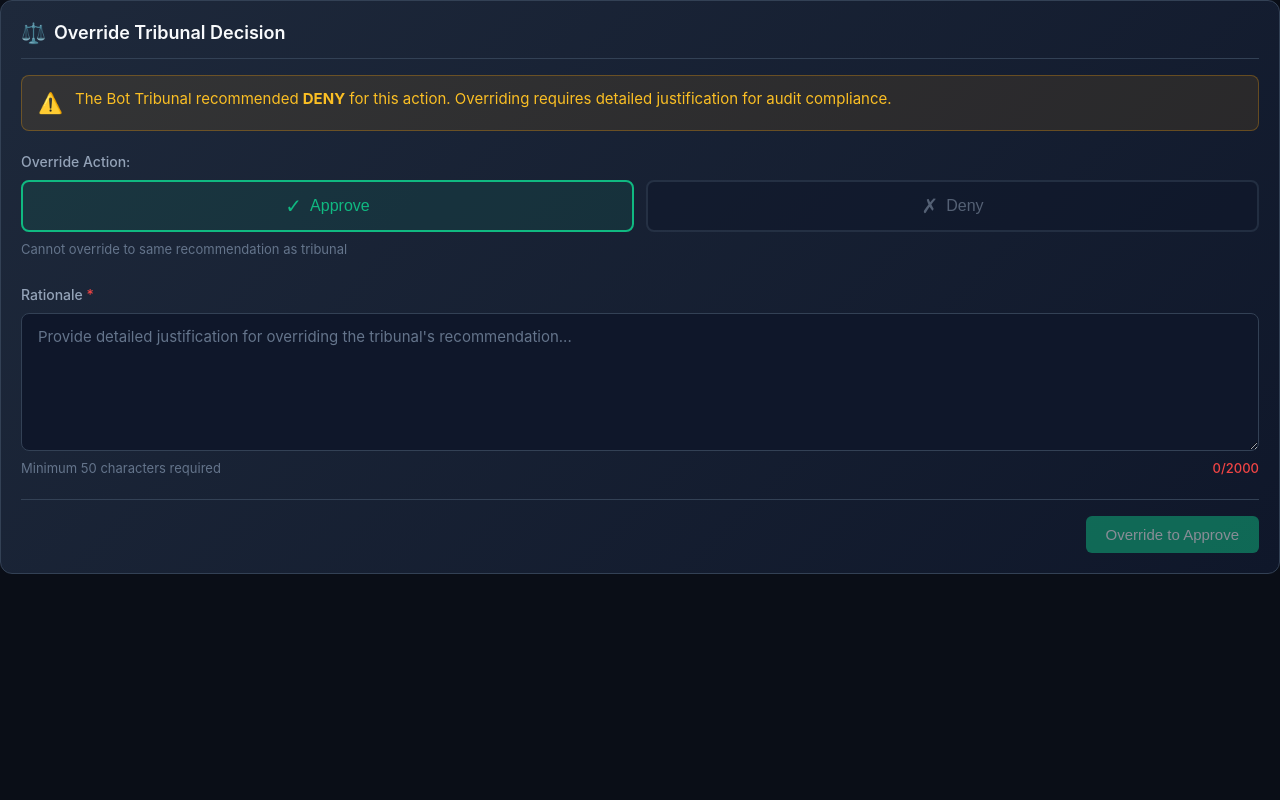
Test: OverrideRationale › Rationale Input › updates character count on input
Replace the text in the text box labelled "Rationale *" with "Test input": (640,382) [21, 312, 1259, 451]
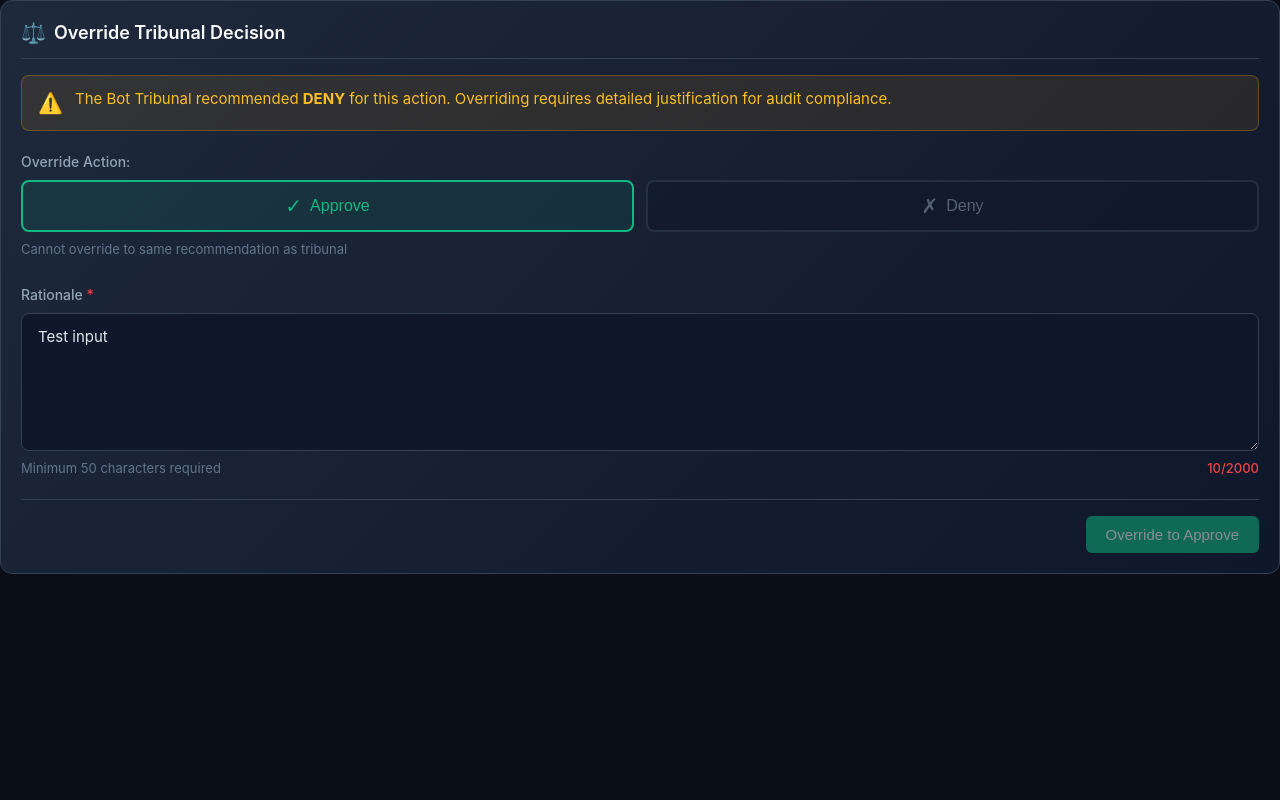
expect the text labelled "10/2000" is shown: met, box [1207, 459, 1259, 478]
